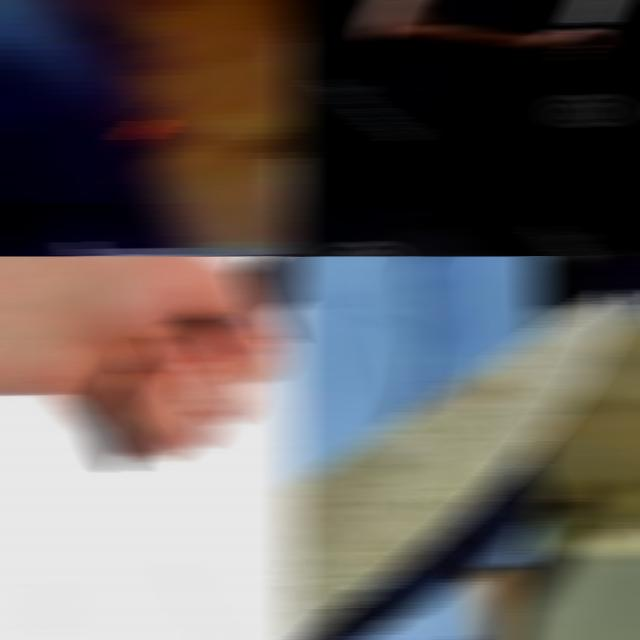Knife: (286, 291, 622, 640), (571, 0, 618, 27)
Knife_Handle: (286, 256, 640, 640), (58, 256, 302, 479), (0, 181, 302, 256)
